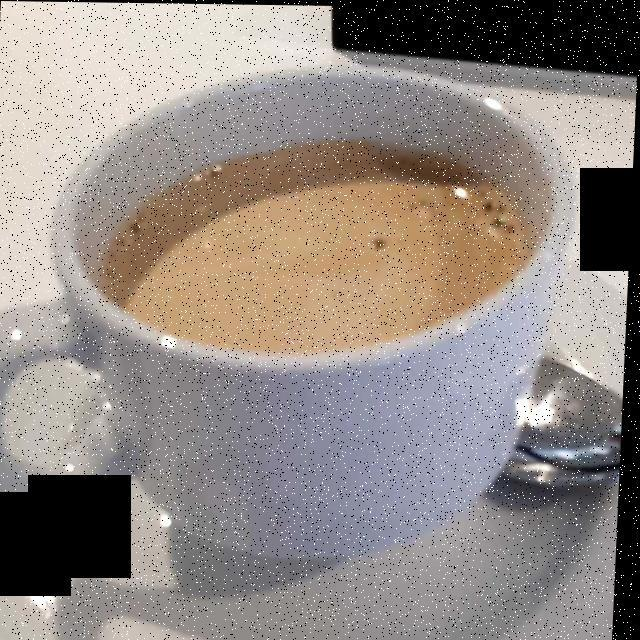drink: (111, 139, 528, 345)
